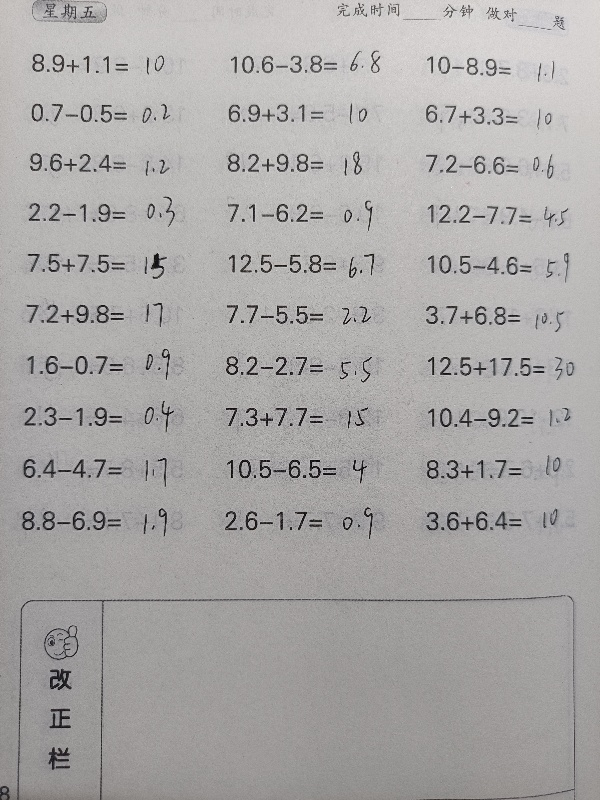equation: (420, 349, 600, 388), (219, 246, 399, 285), (222, 43, 402, 82), (418, 196, 598, 232), (216, 503, 396, 538), (13, 503, 193, 538), (418, 452, 598, 487), (14, 451, 194, 486), (419, 400, 599, 435), (218, 400, 398, 435), (16, 399, 196, 434), (217, 348, 397, 383), (19, 348, 199, 383), (419, 247, 599, 282), (19, 245, 199, 280), (21, 145, 201, 180), (22, 95, 202, 130), (416, 504, 596, 538), (218, 452, 398, 486), (417, 298, 597, 332), (217, 297, 397, 331), (19, 297, 199, 331), (219, 196, 399, 230), (20, 195, 200, 229), (417, 147, 597, 181), (219, 146, 399, 180), (416, 98, 596, 132), (418, 49, 598, 83), (22, 47, 202, 81), (220, 97, 400, 130)
